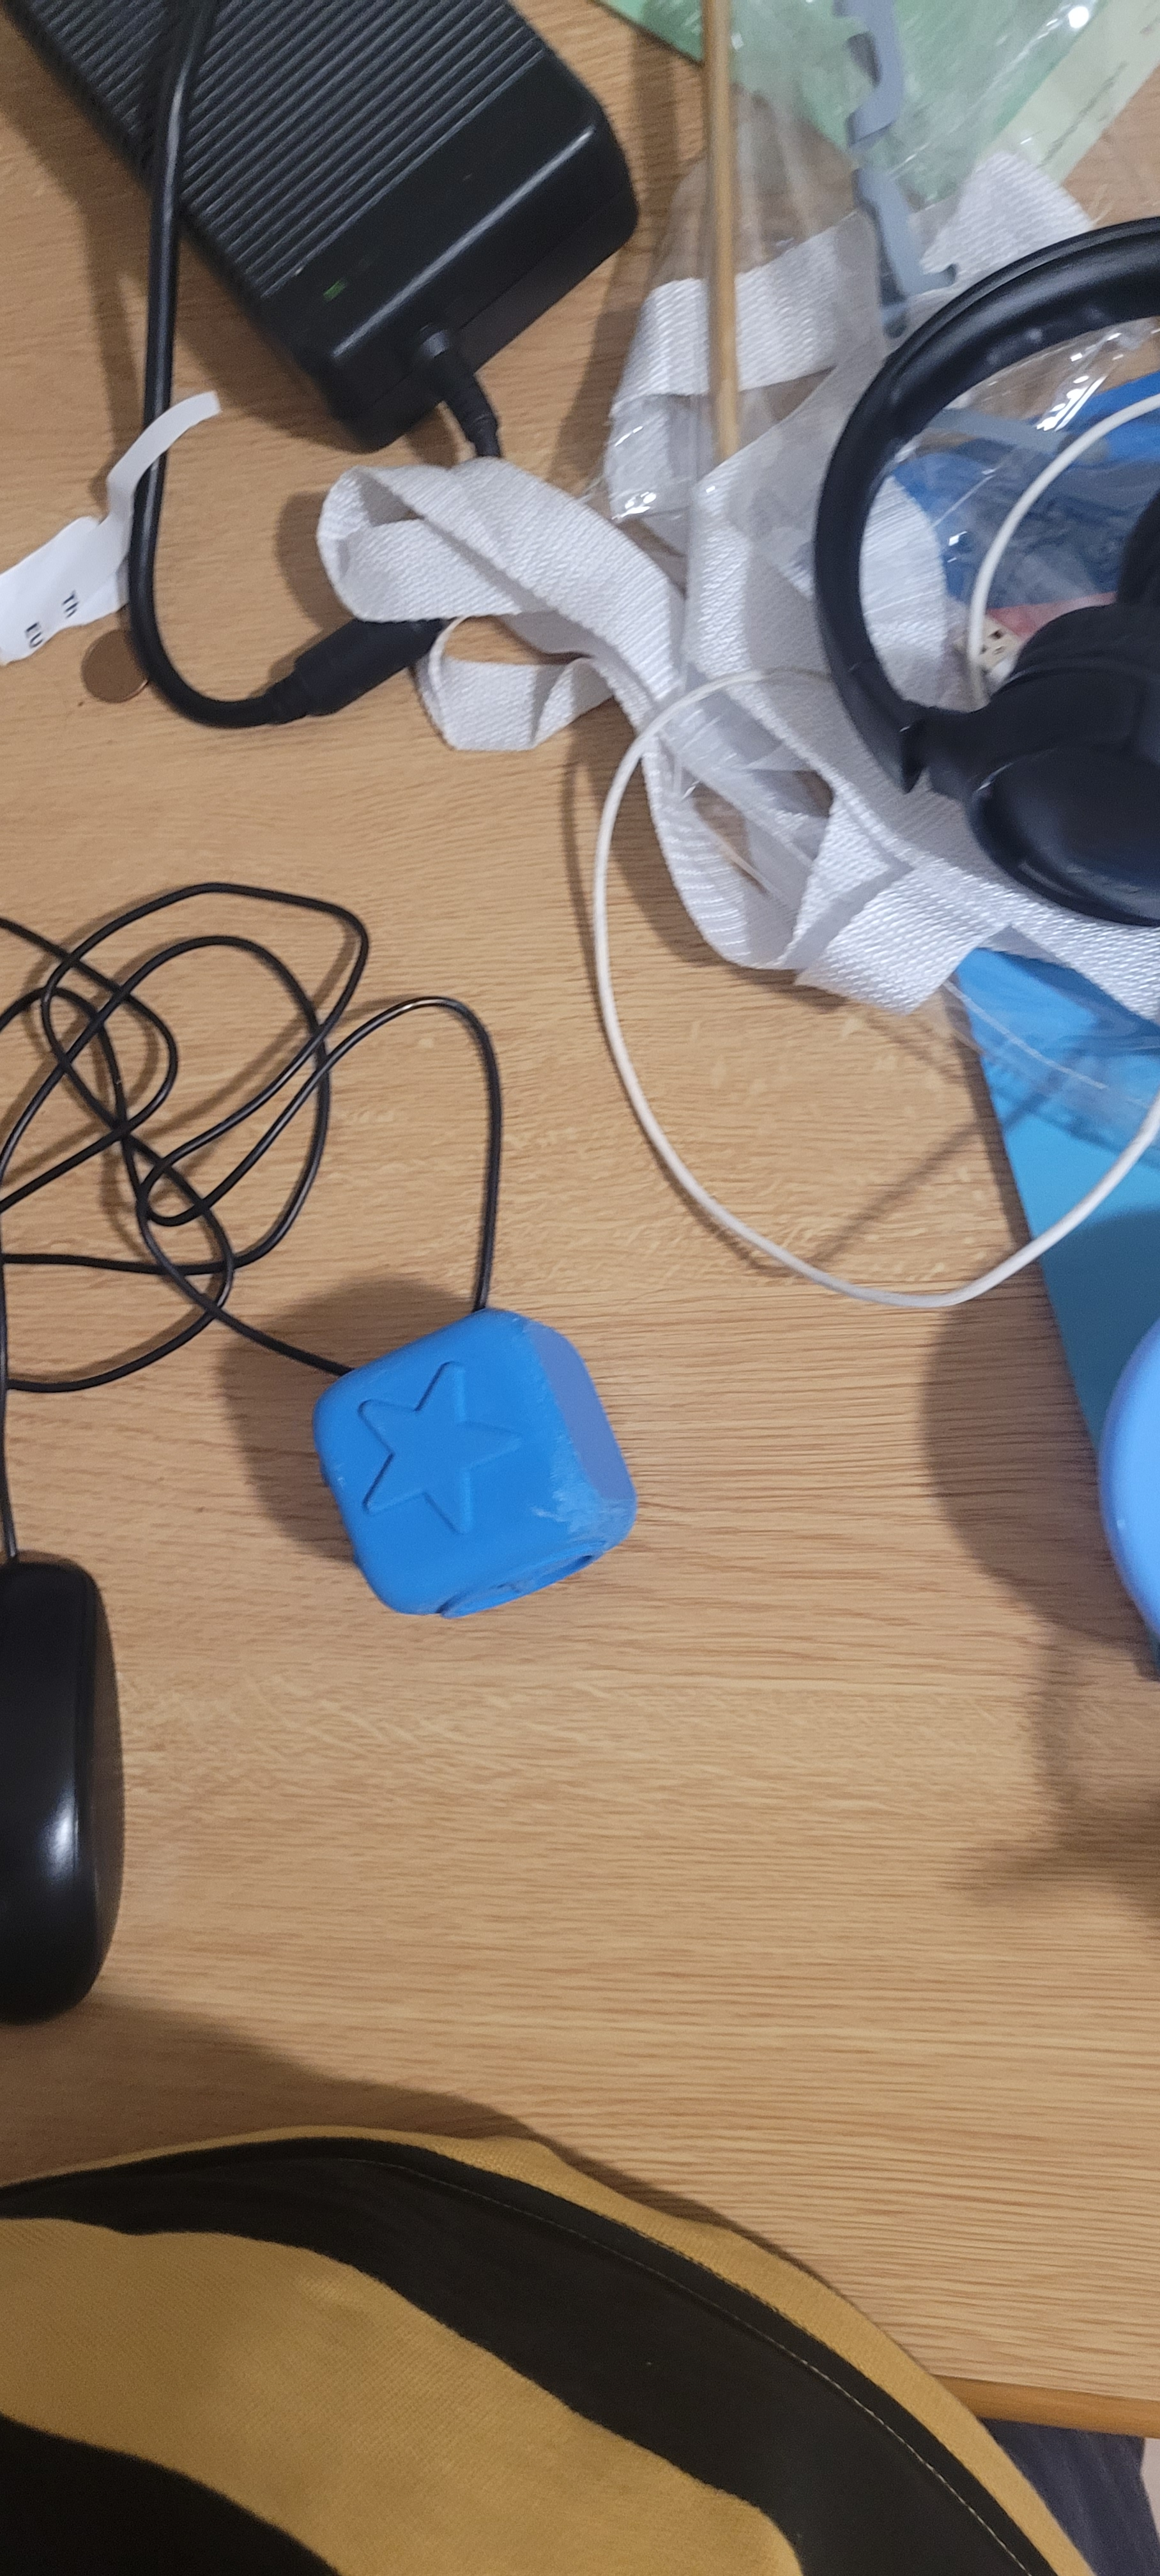Star: (343, 1324, 516, 1559)
